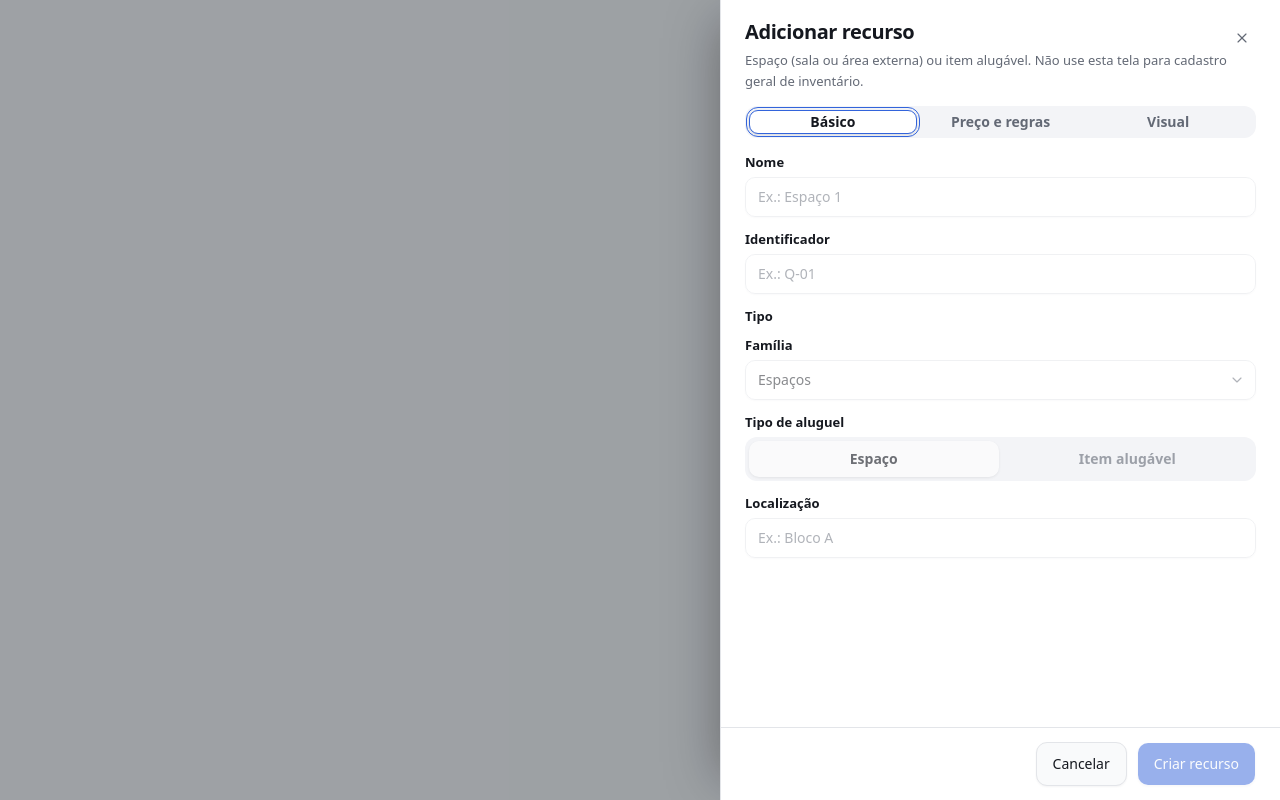
Test: RentalResourceSheet tabs layout › keeps preview selection disabled for a read-only resource
Click the tab "Visual": (1168, 122) [1084, 110, 1252, 134]
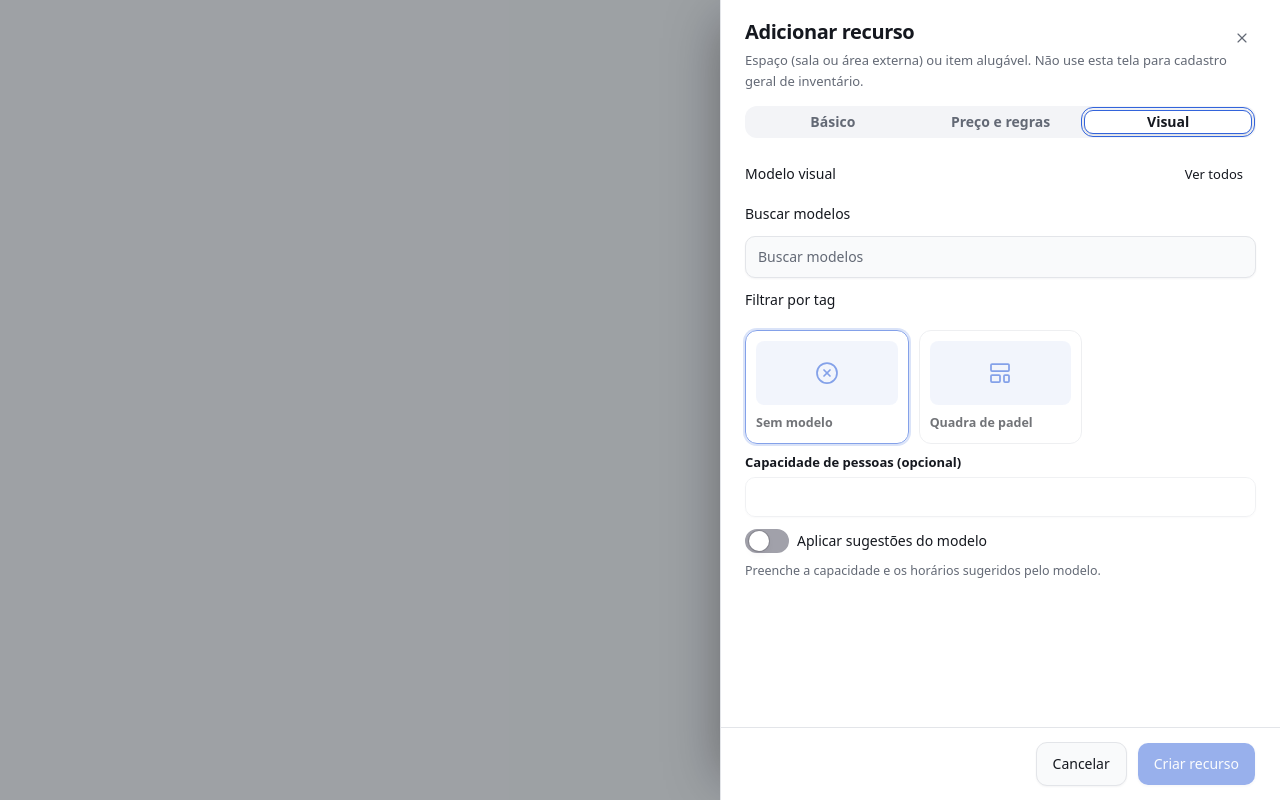
Result: the button "Sem modelo" is disabled at [745, 330, 909, 444]
Result: the button "Quadra de padel" is disabled at [919, 330, 1082, 444]
